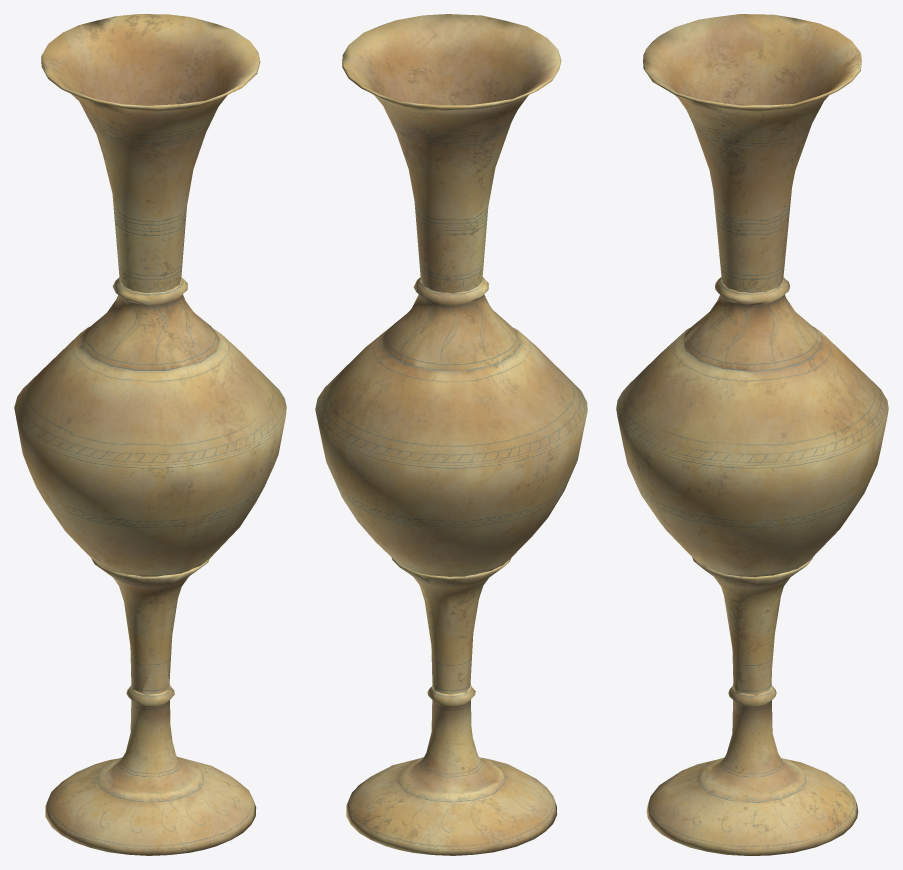
File: brass_vase_01_4k_reduced.fbx
The picture shows the model from 3 angles, left to right: view 1: azimuth 30°, elevation 25°; view 2: azimuth 150°, elevation 25°; view 3: azimuth 270°, elevation 25°; orthographic projection.
Parts seen in each view (by area): view 1: brass_vase_01; view 2: brass_vase_01; view 3: brass_vase_01.
Part boxes in pixels (<box>): brass_vase_01: <box>14,14,286,855</box>; brass_vase_01: <box>315,14,587,855</box>; brass_vase_01: <box>616,14,888,855</box>.
Bounding box in the file's own units: 22.76 × 69.27 × 22.76.
Materials: 1 (1 with a texture image).
